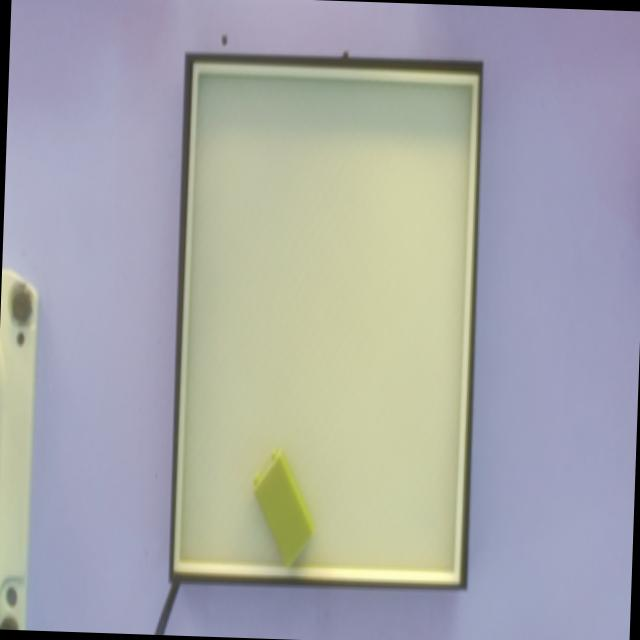bateria: (252, 447, 315, 569)
mesa: (168, 53, 482, 589)
